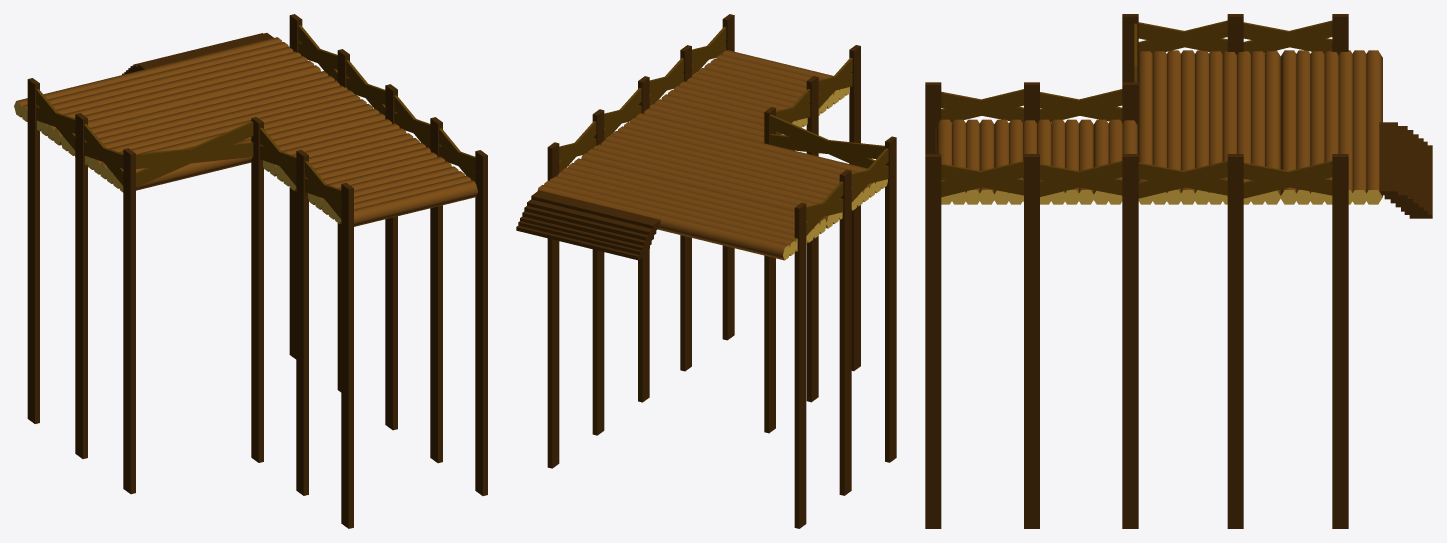
The model's file is fishing_deck.fbx.
3 renders of one model, left to right at view 1: azimuth 30°, elevation 25°; view 2: azimuth 150°, elevation 25°; view 3: azimuth 270°, elevation 25°, orthographic. The views are drawn at different scales.
Visible parts, largest first — view 1: Fence; view 2: Fence; view 3: Fence.
Part boxes in pixels (<box>): Fence: <box>14,14,487,528</box>; Fence: <box>516,14,896,528</box>; Fence: <box>925,14,1432,528</box>.
Size of the model in its own units: 720 by 875 by 1081.
